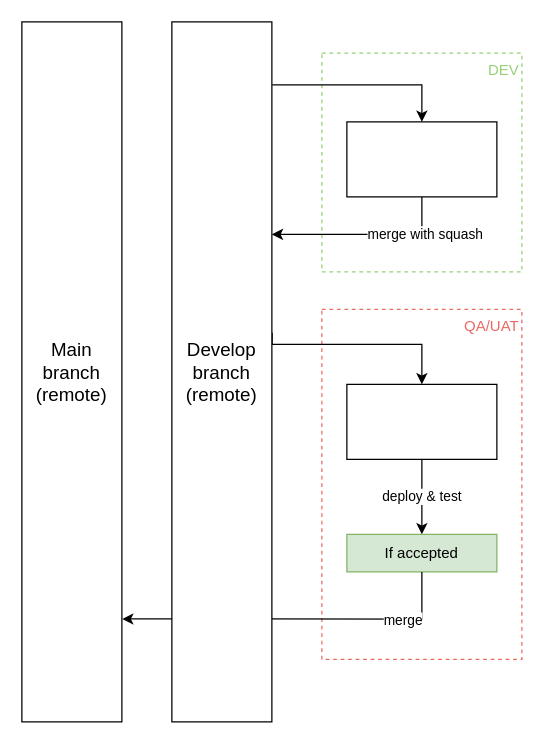
Some shapes in this 544 by 744 pixel diagram are drawn without their labels. The centre of each missing label's shape, as x and y in pixels:
Feature/Bugfix branches: pixel 421 159
Test release branch (remote): pixel 421 421
